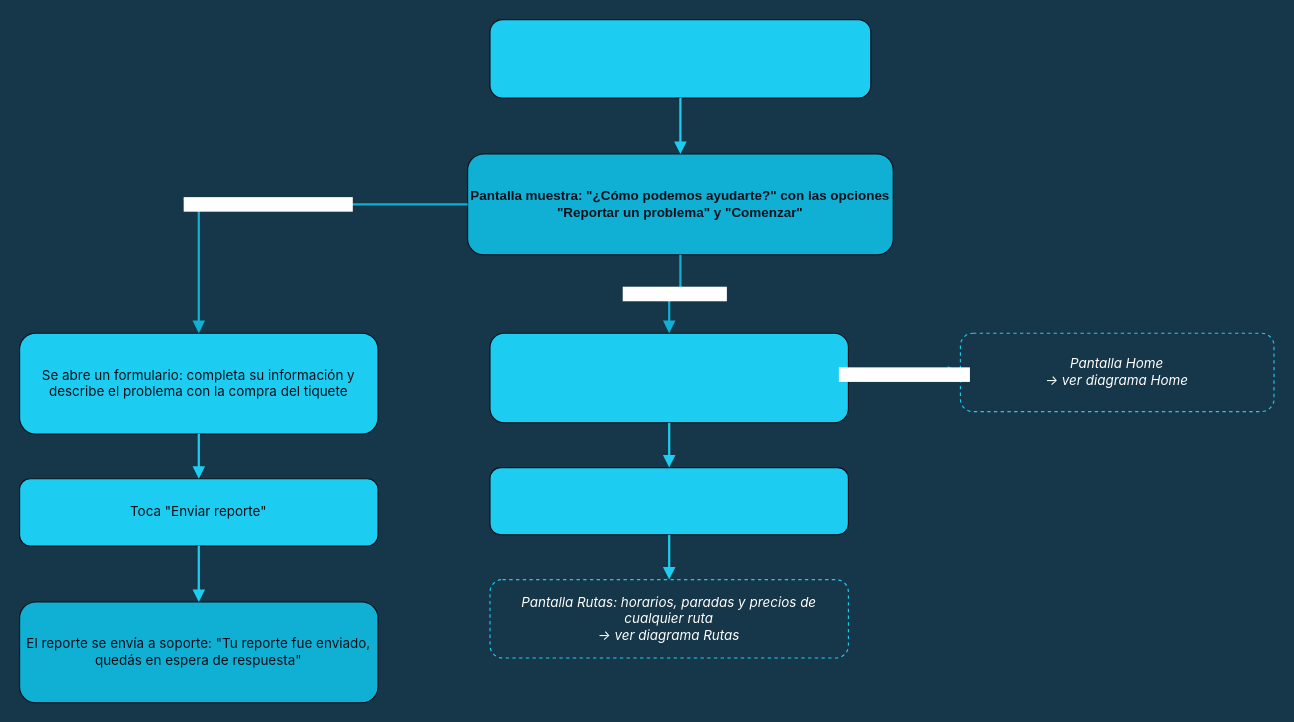
This 1294x722 diagram has some shape labels left out. The box of each missing label's shape, as (x1, y1, x2, y2) in pixels:
Se abre una introducción: qué es Syncro y cómo funciona la app: (489, 332, 848, 423)
Toca "Ver información de rutas": (489, 466, 848, 535)
Usuario entra a Ayuda y Soporte desde Home o desde Perfil: (489, 18, 871, 98)
